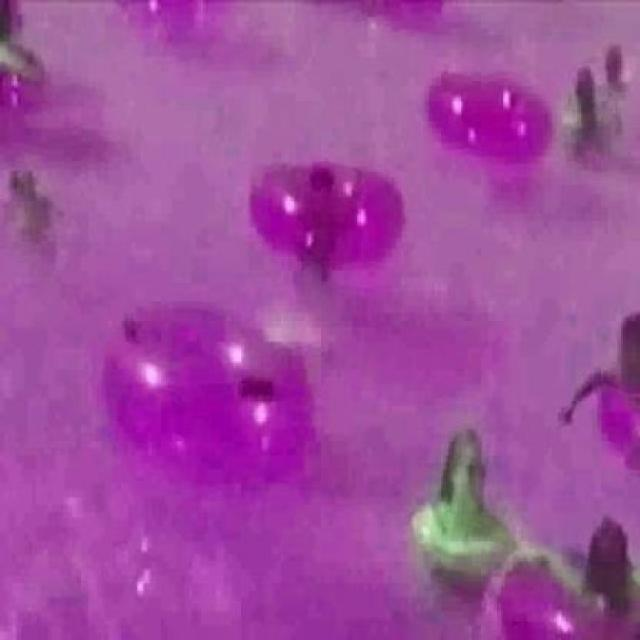drowning: (407, 427, 508, 581), (564, 71, 621, 174), (8, 165, 55, 252)
